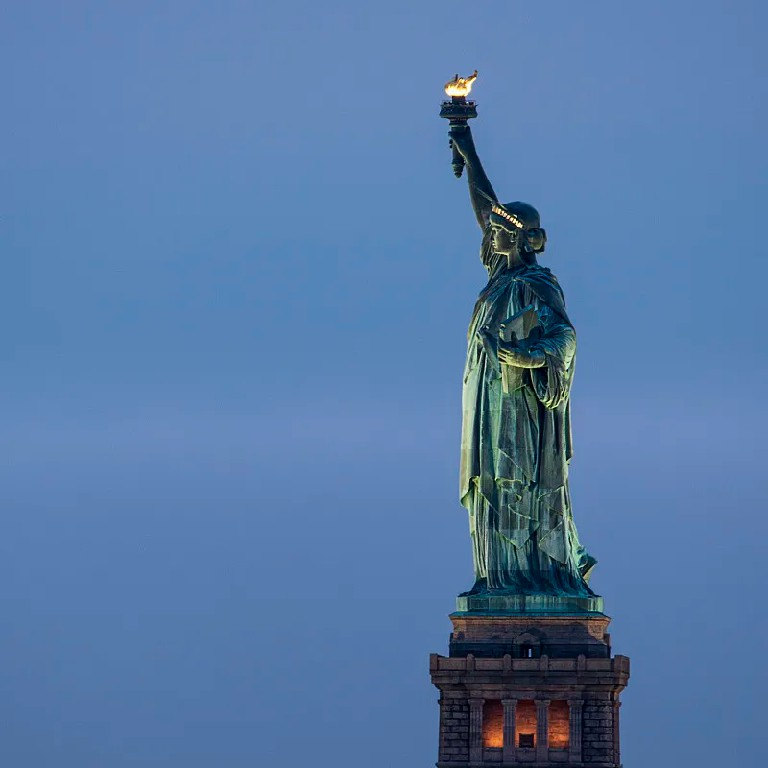SL: (430, 69, 631, 768)
